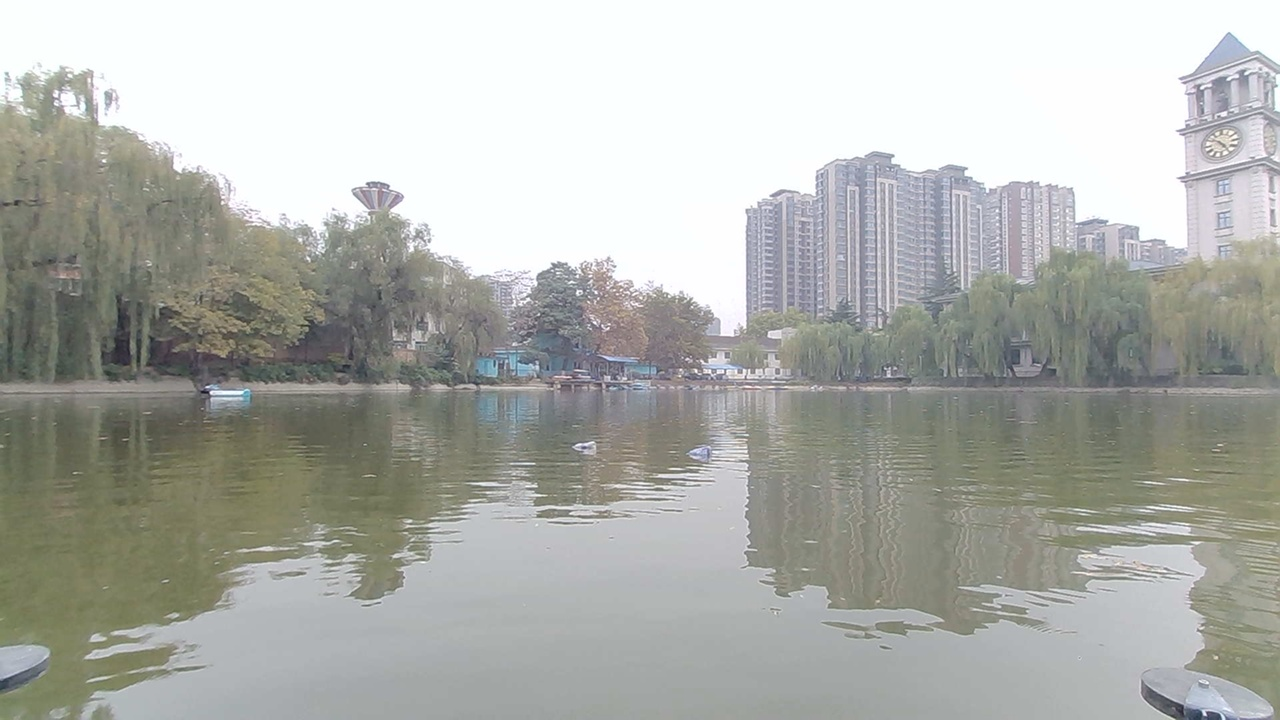bottle: (566, 429, 605, 455), (688, 446, 721, 463)
